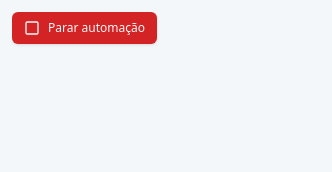
Test case: troca a consulta por parada real e impede uma segunda parada enquanto encerra
Later steps or results of the test are not shown.
Click the button "Parar automação" at [84, 28], box [12,12,157,44]
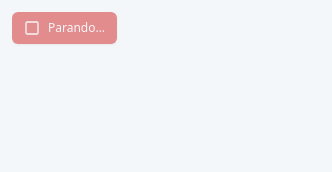
Now the button "Parando…" is disabled, box [12,12,117,44]
